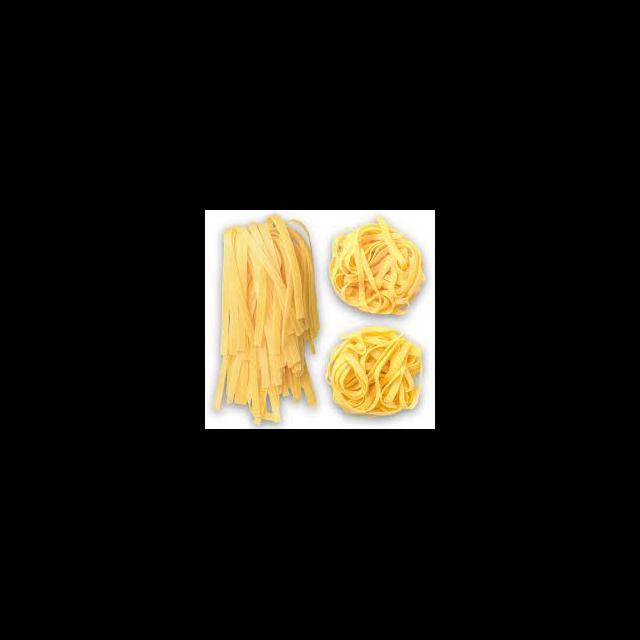noodles: (224, 222, 318, 418), (330, 224, 425, 316), (326, 326, 423, 414)
